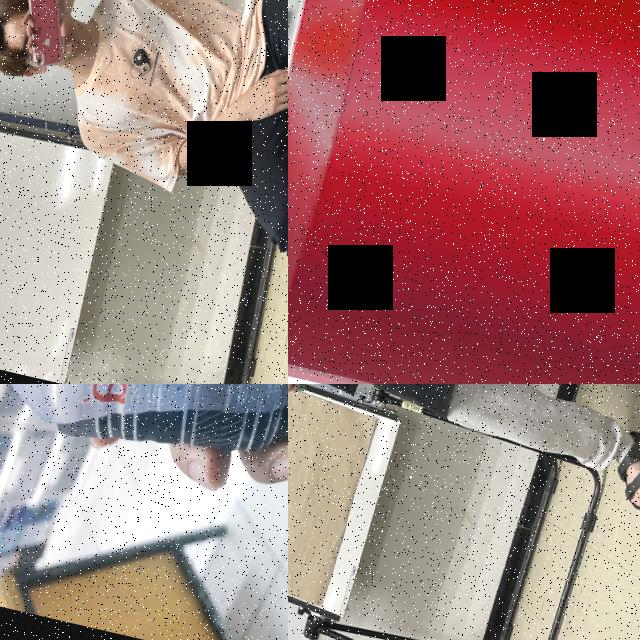bottle: (0, 384, 288, 545)
can: (288, 0, 640, 384)
